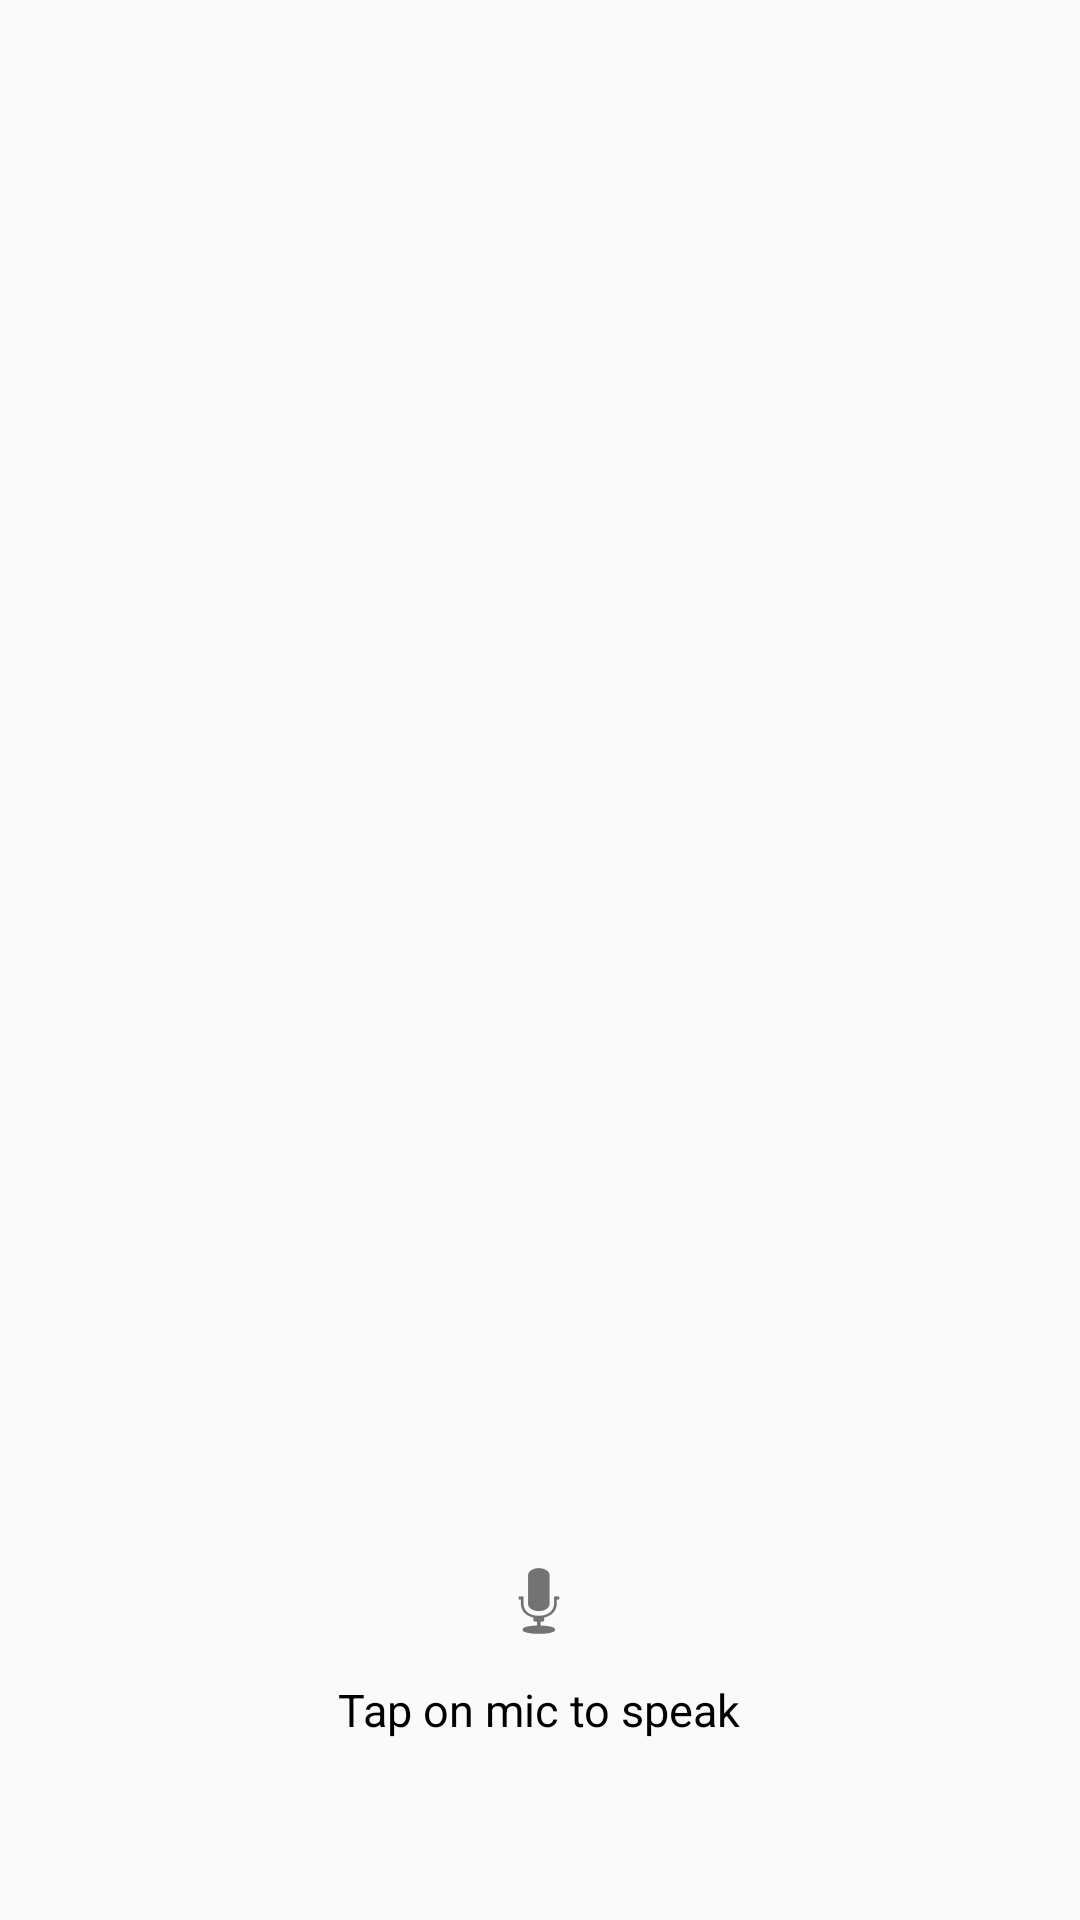

Named icons in this screenshot (1080*1920) and their centers, point (x, y):
speak now: point (539, 1601)
